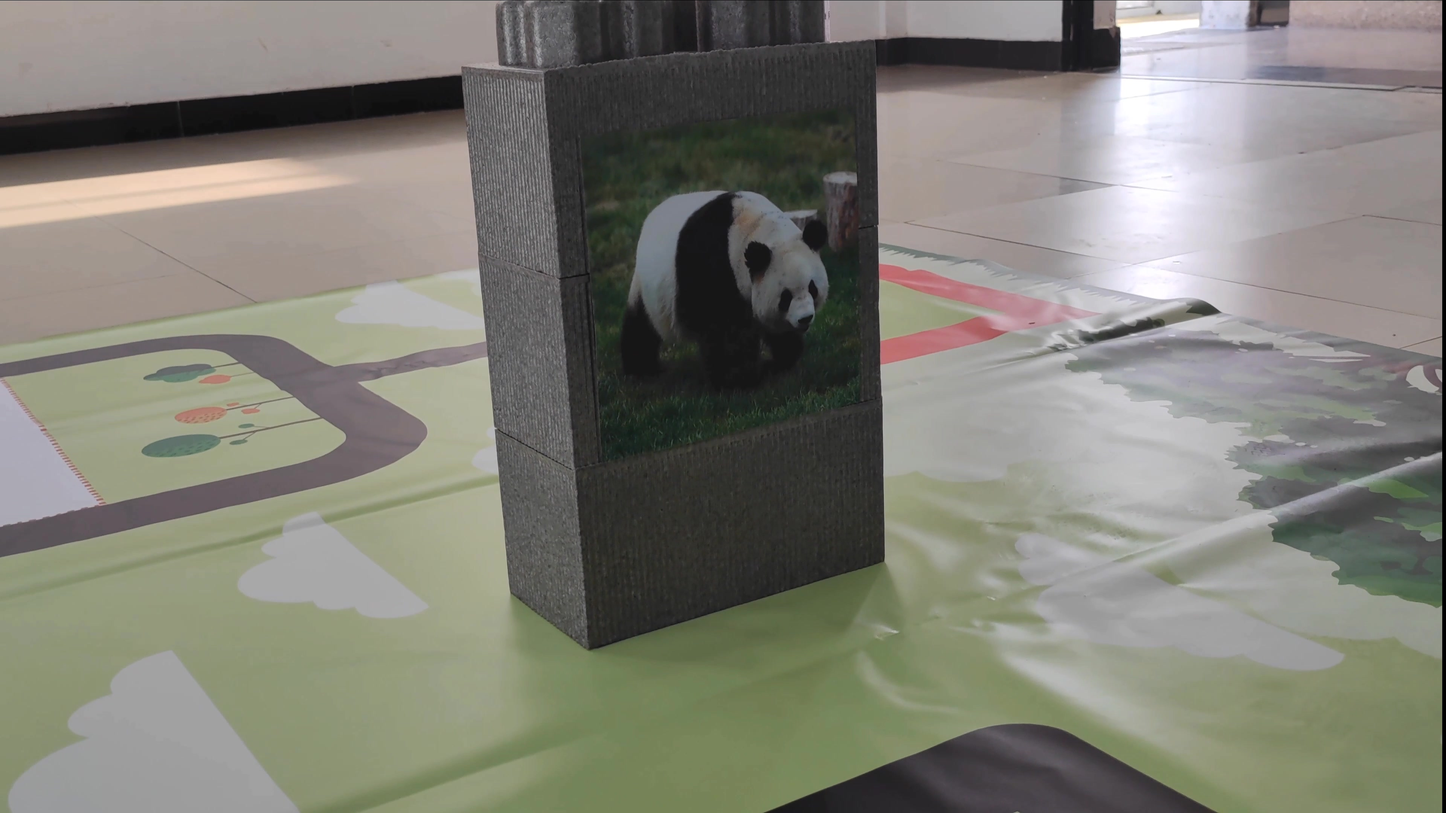panda: (601, 173, 842, 381)
